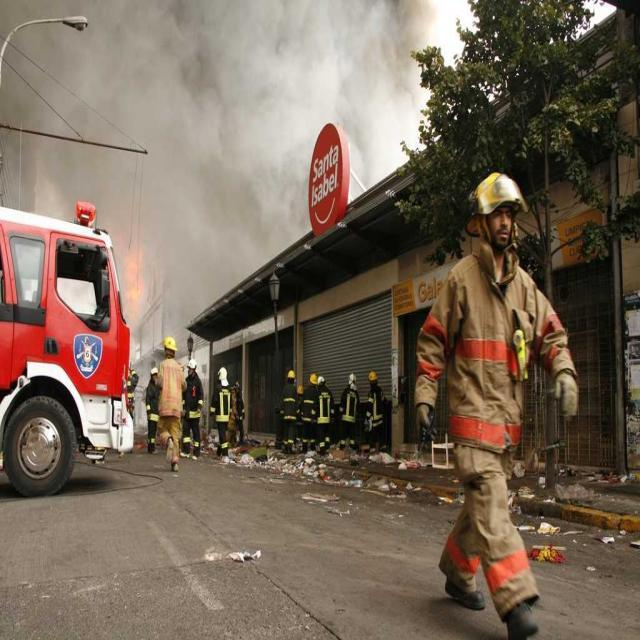Fire: (127, 256, 141, 323)
Smoke: (168, 27, 270, 254), (278, 2, 396, 108), (56, 27, 156, 128)
